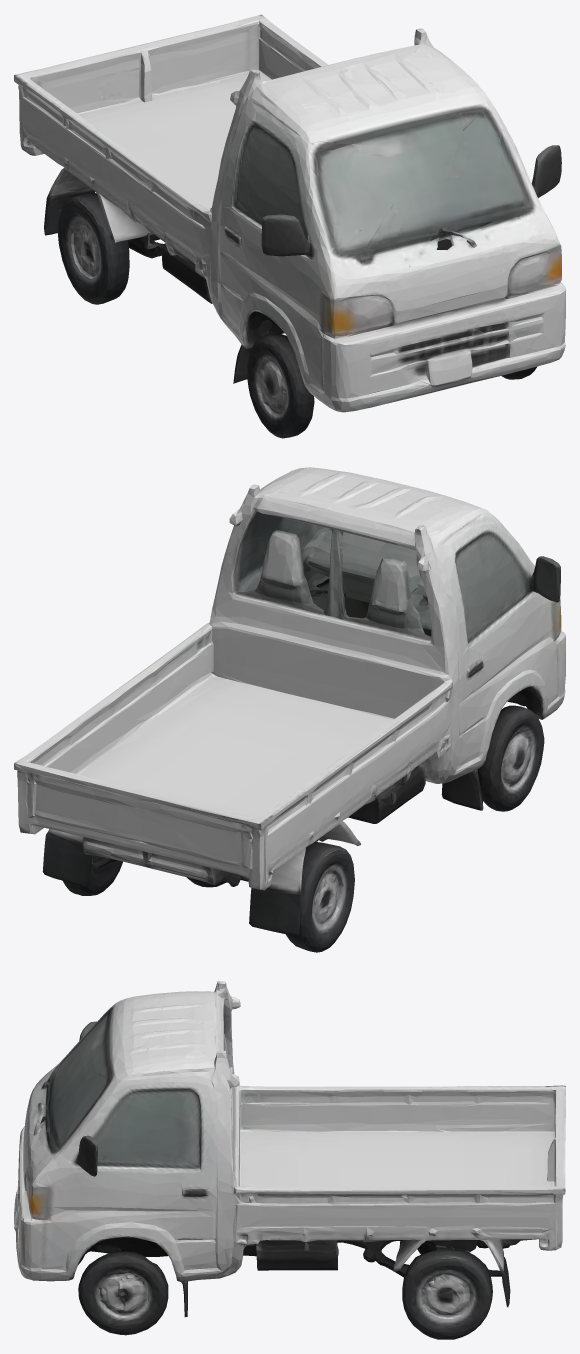
File: car_truck.glb
3 renders of one model, top to bottom at view 1: azimuth 30°, elevation 25°; view 2: azimuth 150°, elevation 25°; view 3: azimuth 270°, elevation 25°, orthographic. The views are drawn at different scales.
Parts seen in each view (by area): view 1: geometry_0; view 2: geometry_0; view 3: geometry_0.
Part boxes in pixels (bbox=[...]): geometry_0: bbox=[14, 14, 565, 438]; geometry_0: bbox=[14, 467, 565, 952]; geometry_0: bbox=[14, 981, 565, 1339].
Bounding box in the file's own units: 0.5407 × 0.5465 × 0.999.
1 material, 1 textured.
